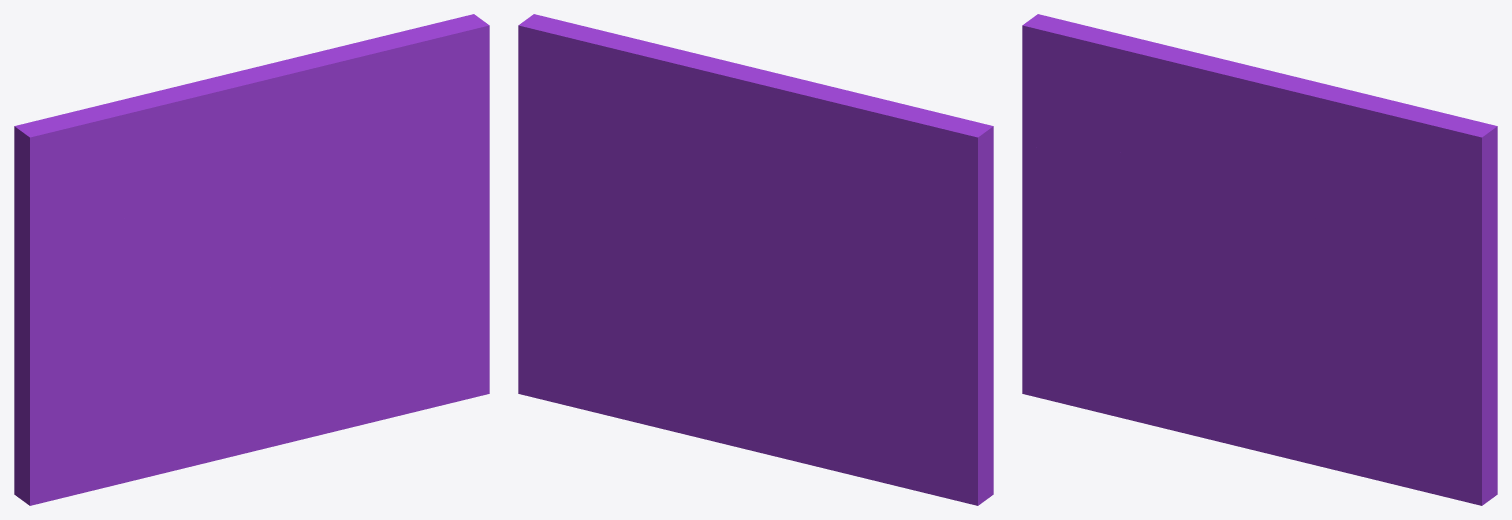
File: Barrier_162_chunks.fbx
3 views of the same model, side by side, from view 1: azimuth 30°, elevation 25°; view 2: azimuth 150°, elevation 25°; view 3: azimuth 330°, elevation 25° (orthographic).
Parts seen in each view (by area): view 1: Barrier_162_2, Barrier_162_0, Barrier_162_6, Barrier_162_3, Barrier_162_5, Barrier_162_4, Barrier_162_1; view 2: Barrier_162_2, Barrier_162_0, Barrier_162_6, Barrier_162_5, Barrier_162_4; view 3: Barrier_162_2, Barrier_162_0, Barrier_162_6, Barrier_162_3, Barrier_162_5, Barrier_162_4, Barrier_162_1.
Part boxes in pixels (x1,y1,x2,y2): Barrier_162_2: [270, 14, 489, 436]; Barrier_162_0: [14, 262, 314, 505]; Barrier_162_6: [14, 75, 236, 258]; Barrier_162_3: [194, 63, 333, 224]; Barrier_162_5: [224, 30, 419, 230]; Barrier_162_4: [14, 188, 262, 267]; Barrier_162_1: [231, 150, 342, 288]; Barrier_162_2: [518, 14, 749, 437]; Barrier_162_0: [698, 256, 993, 505]; Barrier_162_6: [768, 76, 993, 262]; Barrier_162_5: [587, 31, 809, 256]; Barrier_162_4: [741, 190, 993, 273]; Barrier_162_2: [1262, 109, 1497, 505]; Barrier_162_0: [1022, 155, 1306, 463]; Barrier_162_6: [1022, 14, 1247, 155]; Barrier_162_3: [1186, 72, 1325, 222]; Barrier_162_5: [1245, 65, 1428, 231]; Barrier_162_4: [1022, 147, 1254, 248]; Barrier_162_1: [1223, 191, 1334, 293].
Size of the model in its own units: 376 by 288 by 22.1.
